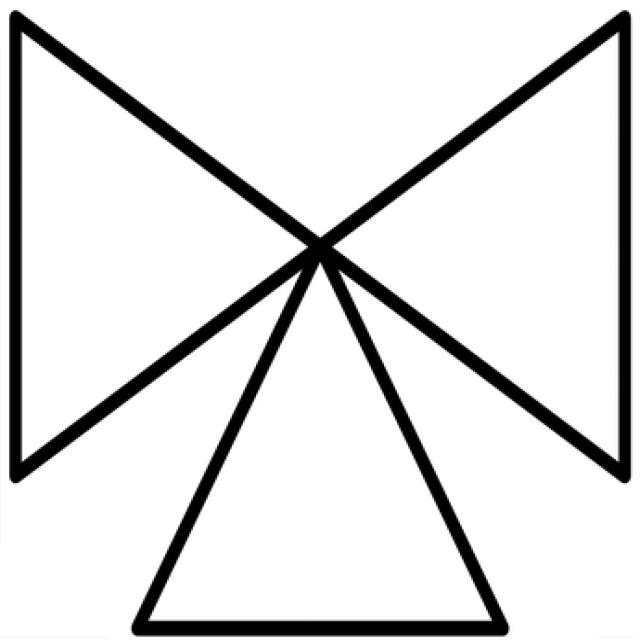3-way Valve: (9, 12, 629, 633)
